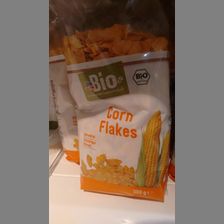cereal: (59, 24, 173, 203)
